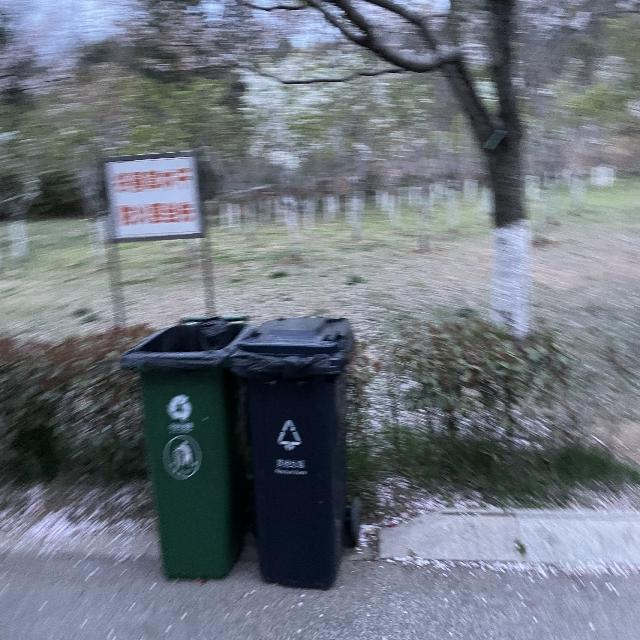garbage_bin: (119, 312, 251, 583), (230, 315, 353, 589)
